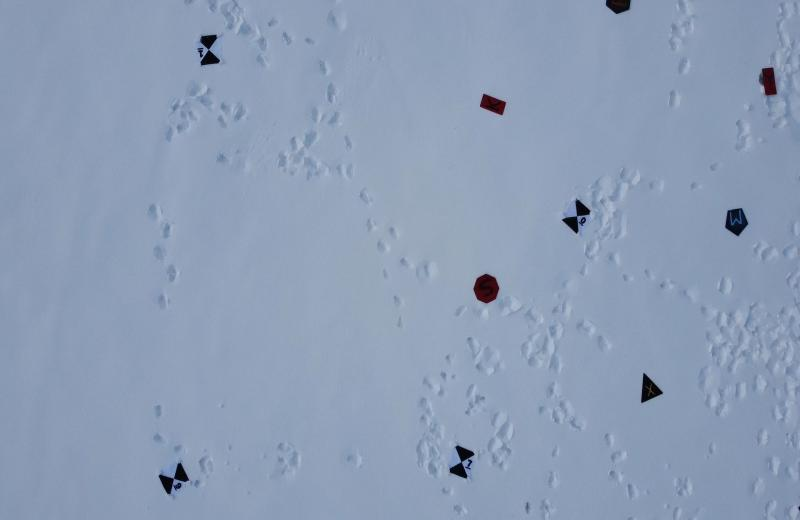Hexagon: (601, 0, 634, 22)
Octagon: (470, 272, 499, 305)
Pentagon: (724, 206, 752, 239)
Rectangle: (475, 91, 509, 123), (758, 66, 778, 98)
Triangle: (638, 370, 668, 408)
